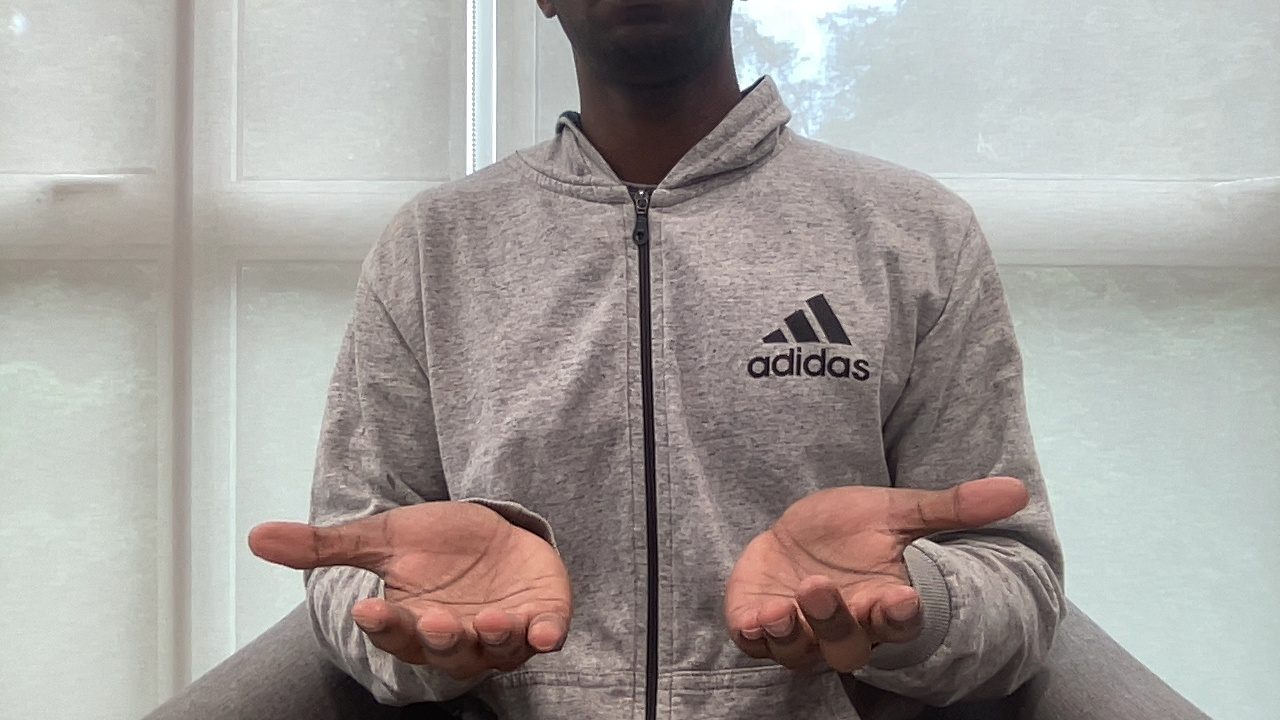give: (239, 468, 1042, 686)
